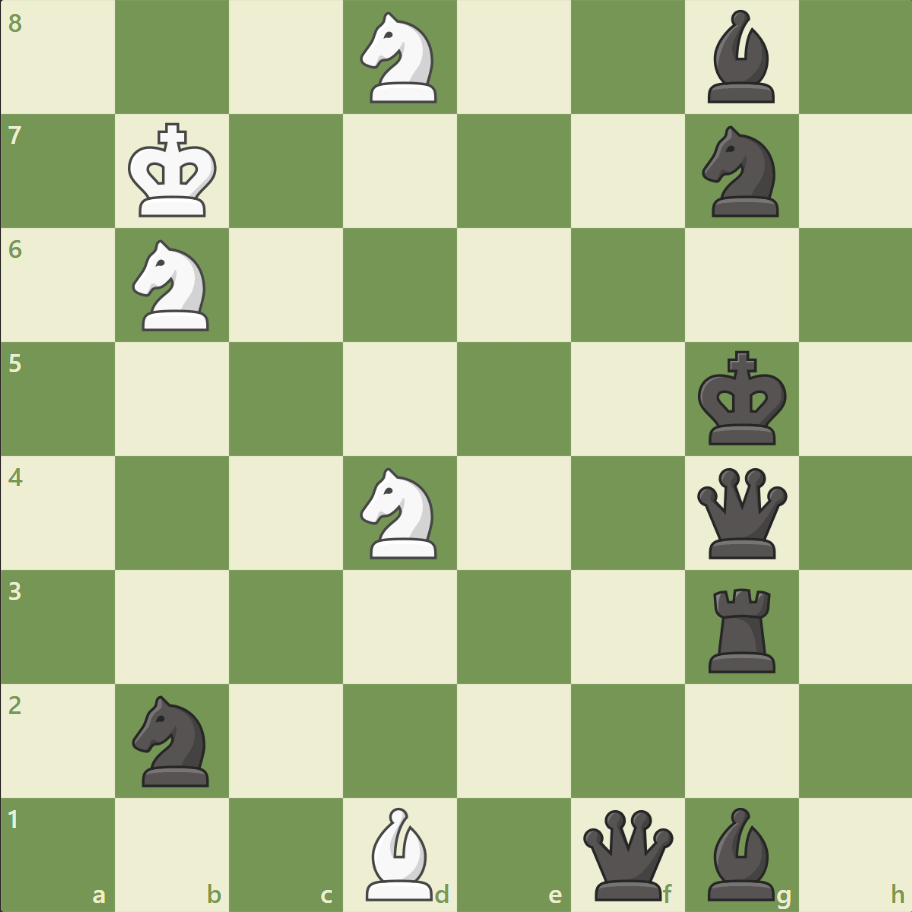B: (358, 801, 442, 904)
K: (124, 117, 224, 225)
N: (351, 7, 449, 110), (124, 234, 222, 337), (351, 461, 449, 564)
b: (698, 6, 782, 109), (698, 801, 782, 904)
k: (692, 344, 792, 452)
n: (124, 688, 222, 791), (692, 121, 789, 223)
q: (691, 463, 790, 562), (578, 804, 677, 903)
r: (700, 579, 783, 676)
